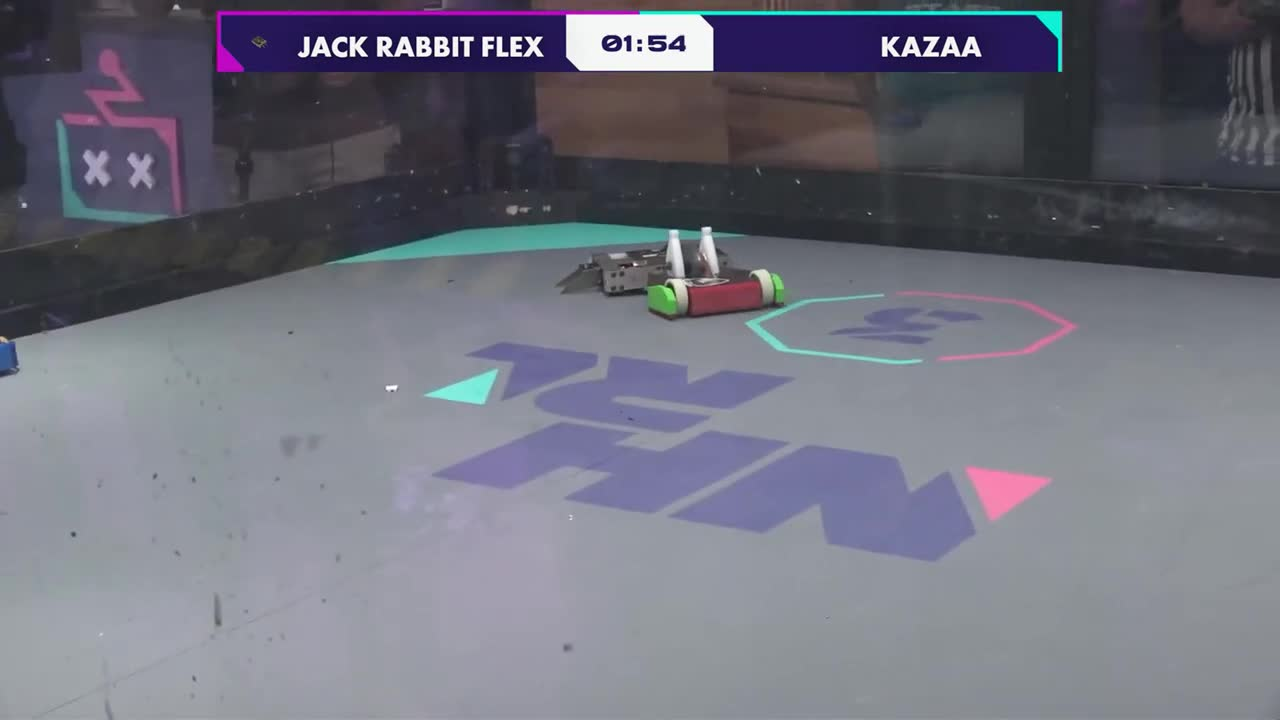combatbot: (644, 264, 787, 319), (592, 236, 700, 299)
